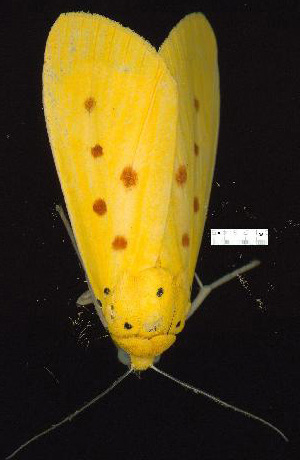Agape chloropyga: (3, 5, 294, 457)
moth: (5, 7, 296, 459)
